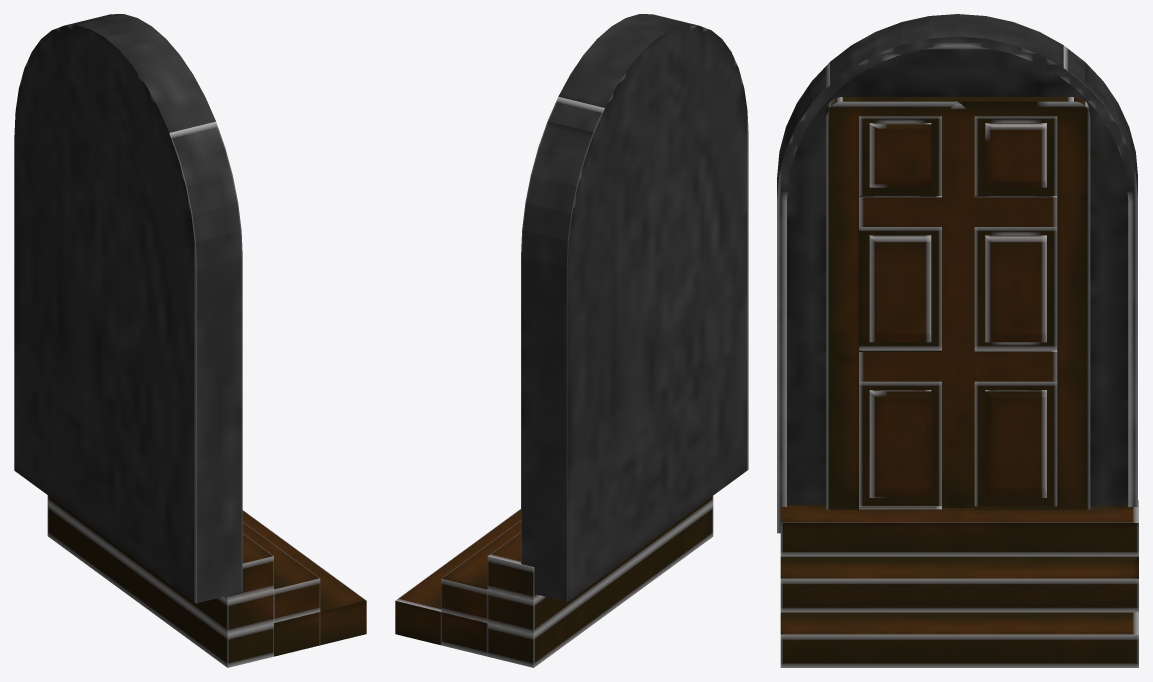
Rendered from EntradaResidencialZefir.fbx.
The picture shows the model from 3 angles, left to right: view 1: azimuth 30°, elevation 25°; view 2: azimuth 150°, elevation 25°; view 3: azimuth 270°, elevation 25°; orthographic projection.
Visible parts, largest first — view 1: Cube.086; view 2: Cube.086; view 3: Cube.086.
Boxes of the visible parts, x1=… form: Cube.086: x1=14, y1=14, x2=366, y2=667; Cube.086: x1=395, y1=14, x2=748, y2=667; Cube.086: x1=777, y1=14, x2=1138, y2=667.
Bounding box in the file's own units: 98.19 × 312 × 179.
Materials: 1 (1 with a texture image).
